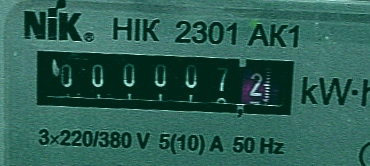0: (58, 59, 77, 87), (152, 59, 171, 87), (121, 58, 139, 87), (90, 59, 108, 87), (184, 60, 201, 89)
2: (249, 70, 266, 97)
7: (215, 62, 232, 92)
screen: (23, 36, 307, 126)
